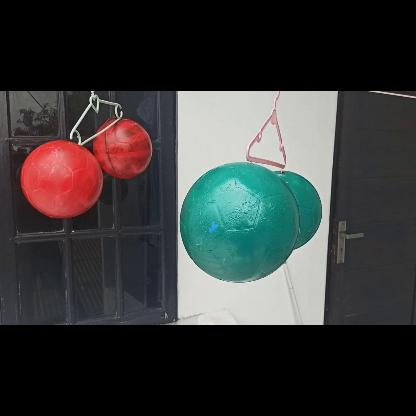red_ball: (20, 138, 98, 216), (91, 119, 148, 176)
